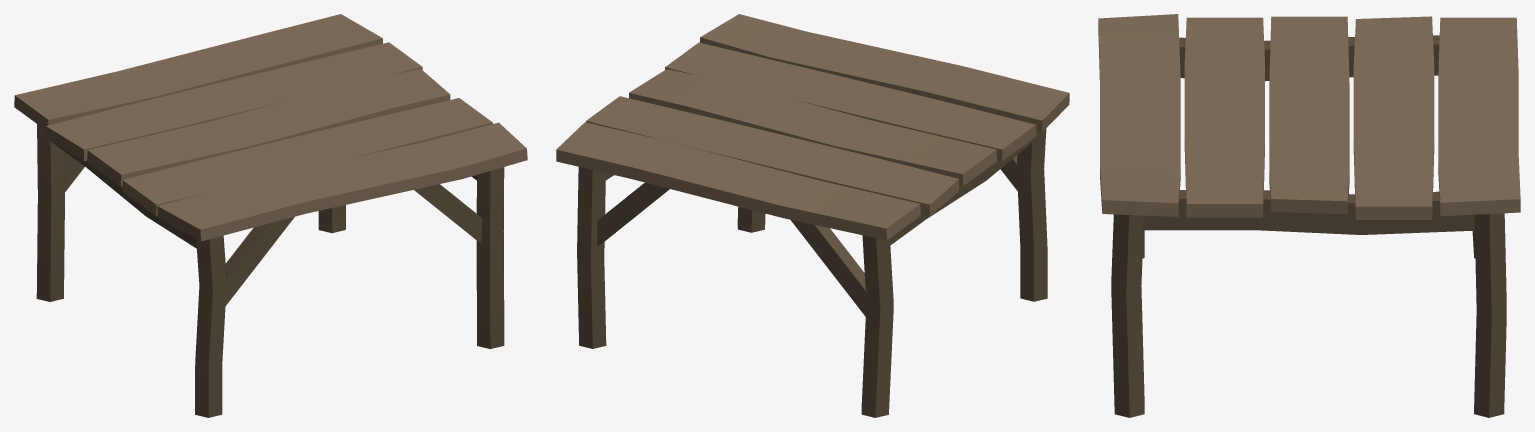
File: market_table_c.FBX
3 renders of one model, left to right at view 1: azimuth 30°, elevation 25°; view 2: azimuth 150°, elevation 25°; view 3: azimuth 270°, elevation 25°, orthographic. The views are drawn at different scales.
Visible parts, largest first — view 1: market_table_c; view 2: market_table_c; view 3: market_table_c.
Boxes of the visible parts, left/top/right/bottom form: market_table_c: left=14, top=14, right=527, bottom=417; market_table_c: left=556, top=14, right=1069, bottom=417; market_table_c: left=1098, top=14, right=1520, bottom=417.
Size of the model in its own units: 1.82 by 1.01 by 1.71.
